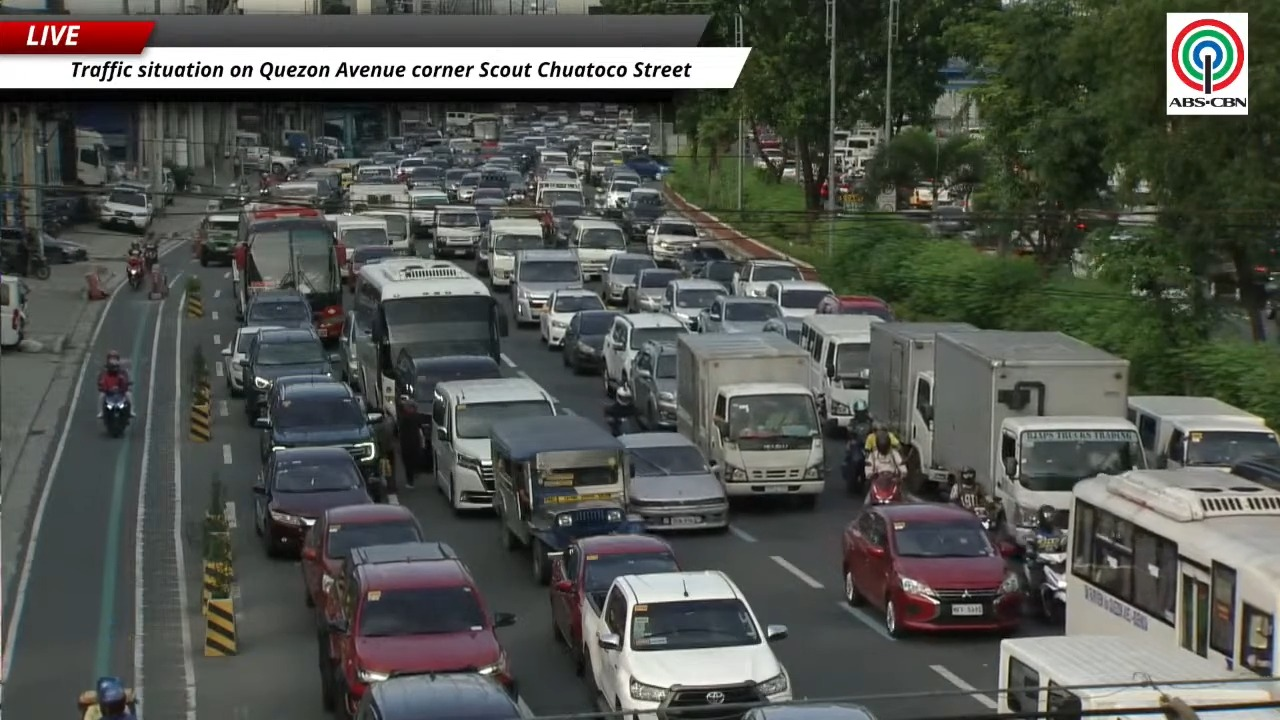bus: (1066, 469, 1279, 676), (348, 257, 508, 415), (996, 635, 1273, 719), (232, 203, 344, 341), (469, 113, 501, 145)
car: (320, 542, 515, 713), (842, 503, 1023, 636), (549, 534, 680, 672), (433, 377, 558, 511), (395, 350, 501, 484), (301, 503, 424, 616), (255, 377, 382, 483), (253, 447, 372, 556), (619, 431, 728, 530), (239, 328, 340, 425), (355, 673, 532, 719), (603, 313, 686, 397), (511, 249, 582, 325), (221, 326, 283, 397), (628, 341, 676, 429), (540, 289, 604, 349), (563, 310, 620, 373), (661, 278, 725, 331), (697, 295, 782, 332), (645, 215, 701, 268), (98, 182, 154, 233), (602, 253, 656, 304), (733, 259, 803, 296), (244, 290, 312, 328), (764, 280, 831, 317), (625, 267, 680, 312), (197, 206, 237, 266), (344, 244, 396, 290), (622, 187, 665, 241), (339, 311, 366, 391), (742, 703, 876, 719), (543, 199, 587, 247), (817, 294, 894, 321), (676, 244, 731, 276), (600, 173, 640, 217), (1230, 454, 1279, 489), (692, 259, 741, 294), (42, 234, 88, 263), (762, 316, 803, 344)
motorcycle: (1023, 536, 1066, 623), (842, 423, 871, 495), (1037, 553, 1066, 624), (606, 385, 634, 436), (0, 253, 50, 279), (102, 391, 130, 437), (865, 472, 903, 505), (77, 690, 103, 719), (126, 260, 144, 290), (143, 245, 158, 273)
truck: (924, 330, 1145, 540), (581, 571, 791, 717), (676, 333, 824, 507), (867, 322, 977, 482), (75, 127, 110, 186)
